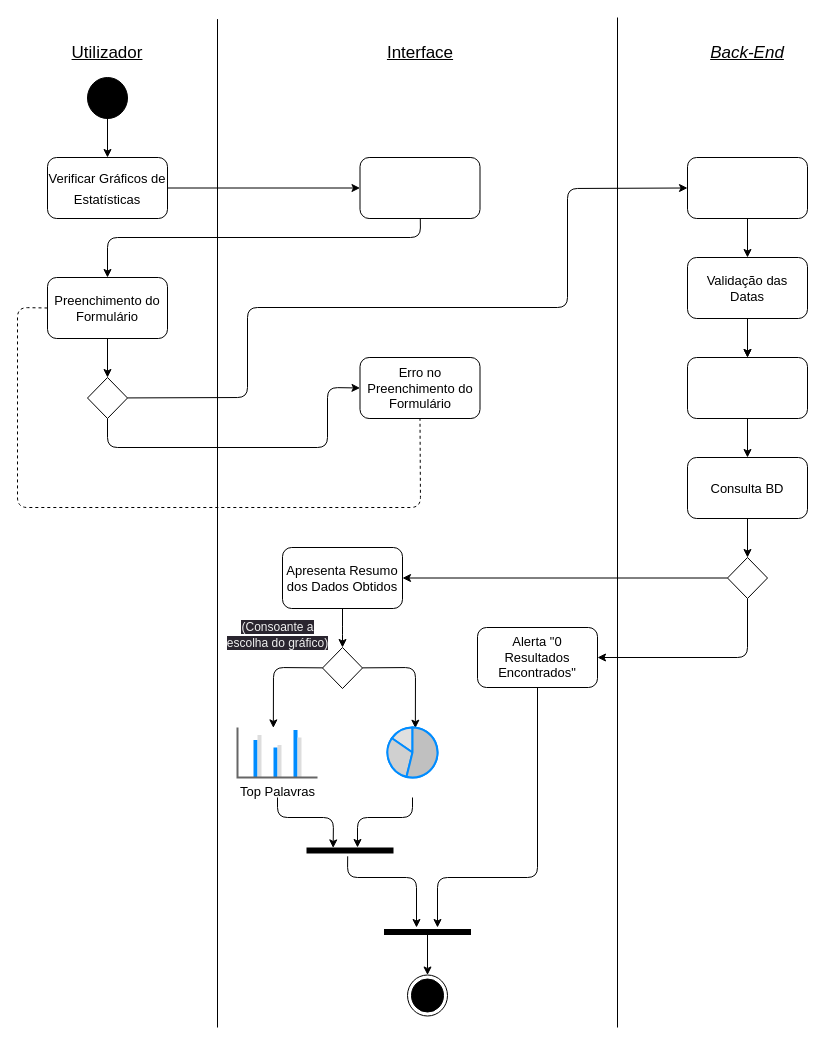
Some shapes in this 825 by 1046 pixel diagram are drawn without their labels. The shapes that lost their labels are listed below. From the top down, each one's box as (x1, y1, x2, y2) in pixels, then its label:
(359, 156, 480, 218): Apresenta Formulário
(686, 156, 808, 218): Validação da Frase/Palavra
(686, 356, 808, 418): Validação da Opção de Escolha do Gráfico
(386, 726, 438, 778): Distribuição de Polaridades
